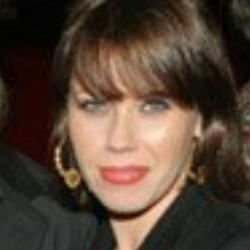face: (33, 1, 236, 225)
